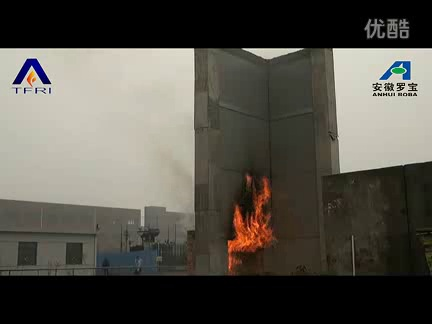fire: (220, 170, 279, 278)
